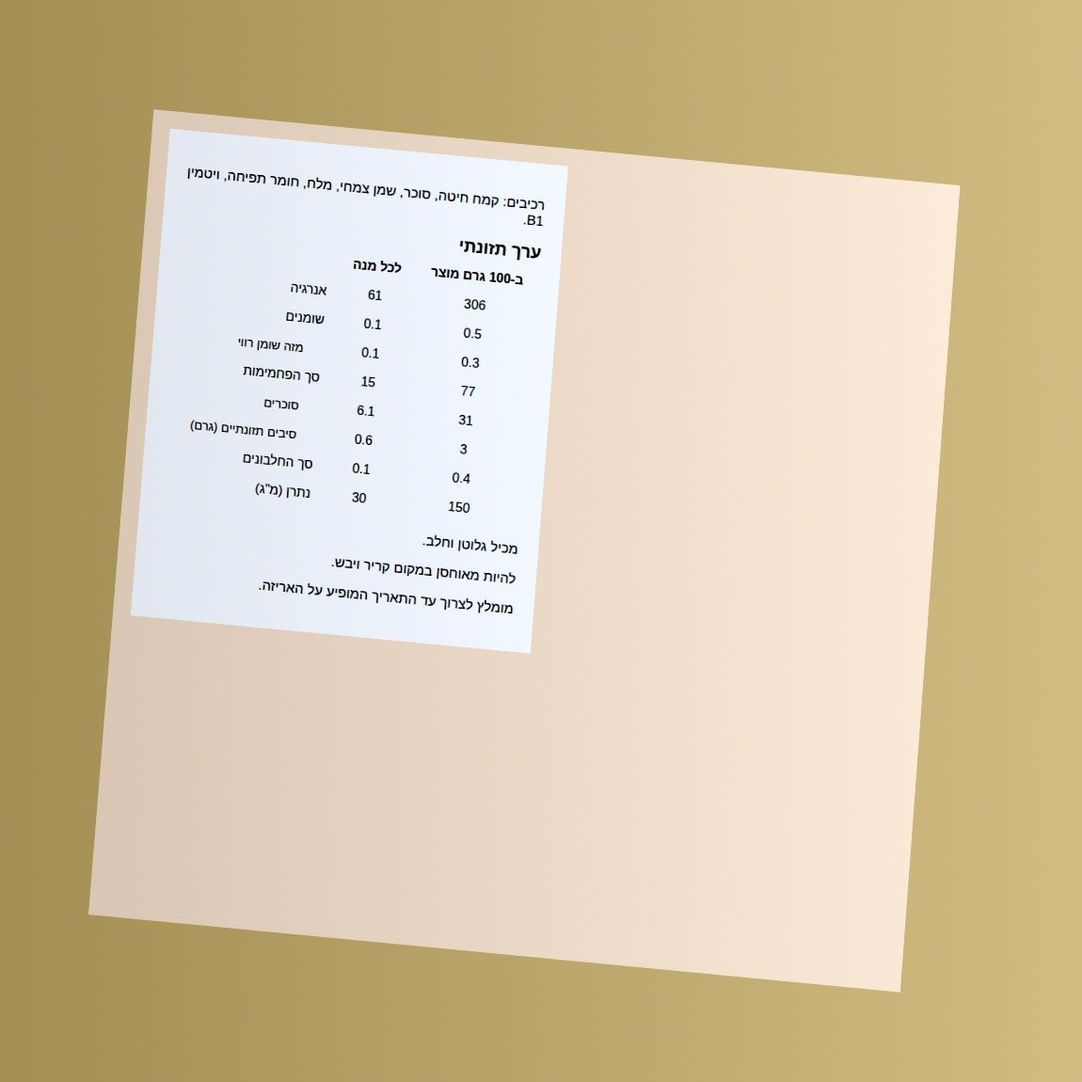carbs: (458, 382, 477, 401)
energy: (462, 295, 488, 314)
fat: (461, 324, 484, 343)
protein: (450, 469, 473, 488)
